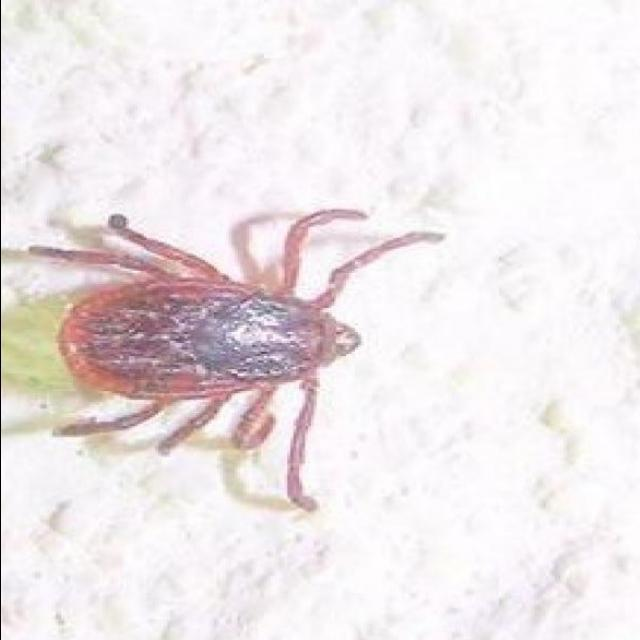Rhipicephalus Sanguineus-F: (25, 209, 442, 512)
